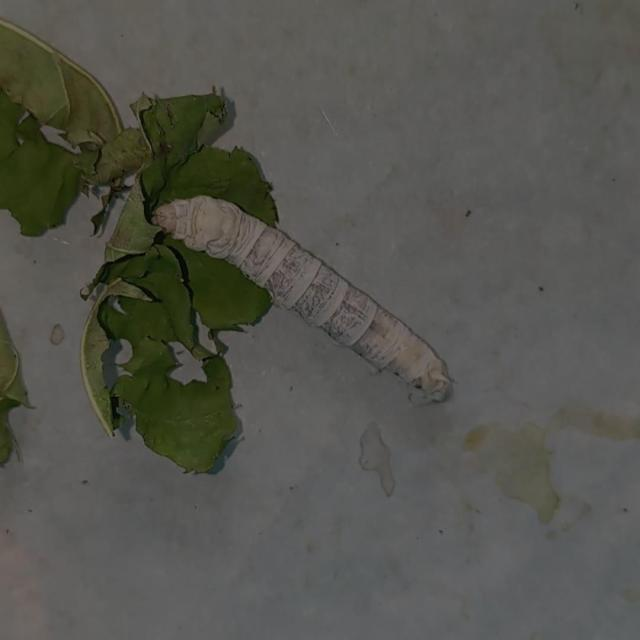Grasserie: (130, 165, 468, 424)
